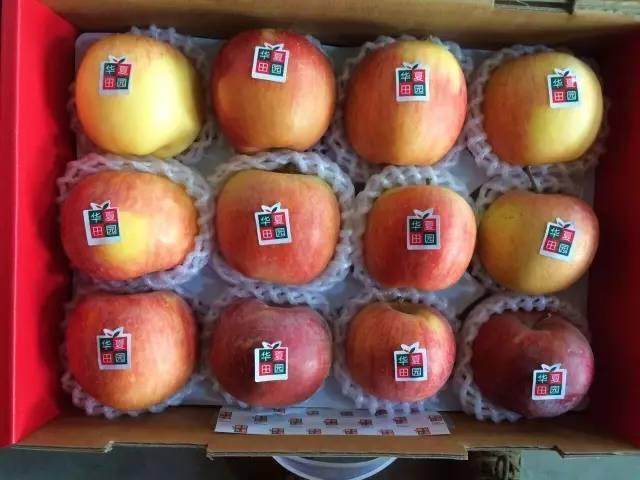apple: (54, 161, 202, 288), (453, 297, 596, 421), (70, 29, 206, 157), (338, 37, 468, 168), (61, 288, 199, 409), (207, 26, 334, 151), (211, 167, 343, 283), (478, 47, 602, 166), (205, 298, 332, 408), (475, 188, 601, 294), (336, 298, 456, 406), (360, 184, 476, 289)
